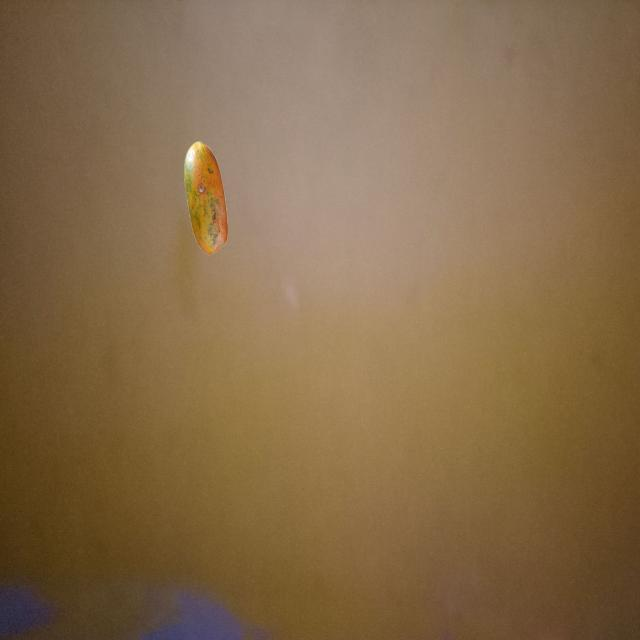Pepaya rippen: (178, 132, 235, 263)
